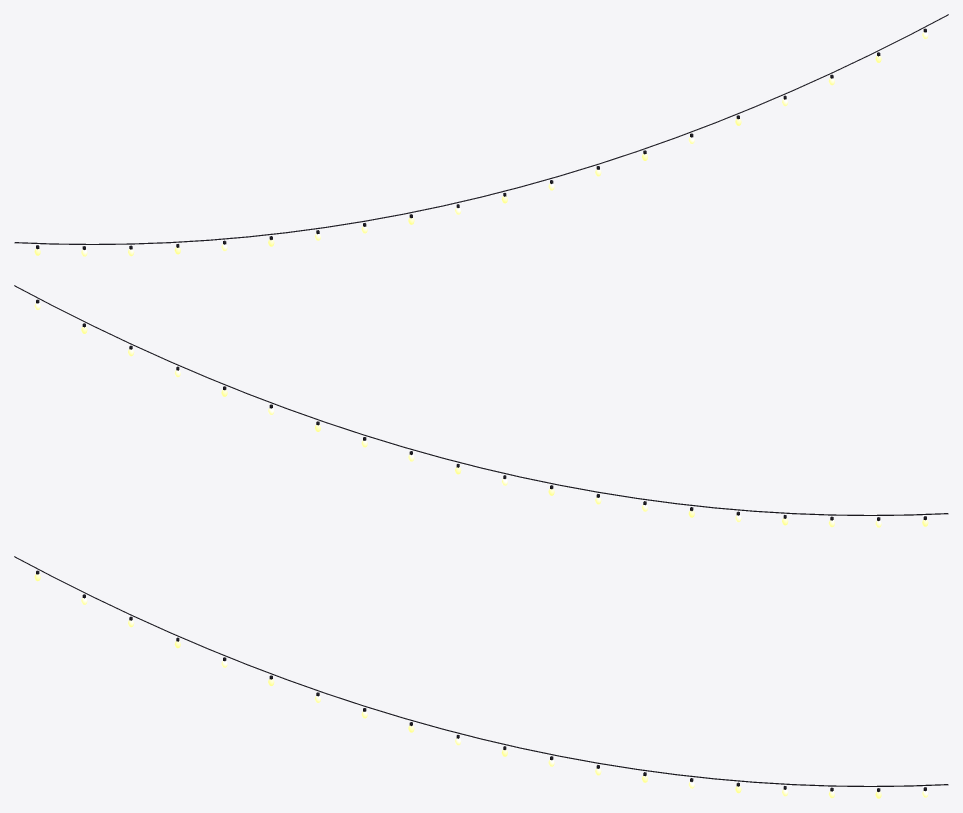
File: festoon_10m.glb
The picture shows the model from 3 angles, top to bottom: view 1: azimuth 30°, elevation 25°; view 2: azimuth 150°, elevation 25°; view 3: azimuth 330°, elevation 25°; orthographic projection.
Visible parts, largest first — view 1: festoon_10m, bulbs; view 2: festoon_10m, bulbs; view 3: festoon_10m, bulbs.
Part boxes in pixels (box(x1,y1,x2,y2)): festoon_10m: box(14, 14, 948, 244); bulbs: box(34, 28, 928, 256); festoon_10m: box(14, 285, 948, 515); bulbs: box(34, 299, 928, 527); festoon_10m: box(14, 556, 948, 786); bulbs: box(34, 570, 928, 798).
Size of the model in its own units: 10 by 0.831 by 0.06.
